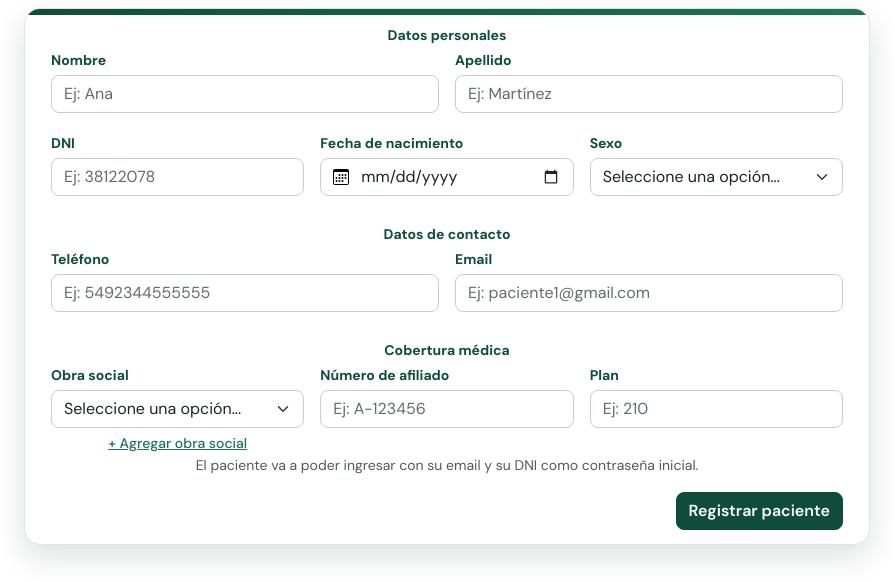
RegistroPacienteForm › 'Sin obra social' completa y bloquea número de afiliado y plan
Step 1. Select "Sin obra social" in the dropdown below "Número de afiliado" → (178, 409), box [51,390,304,428]
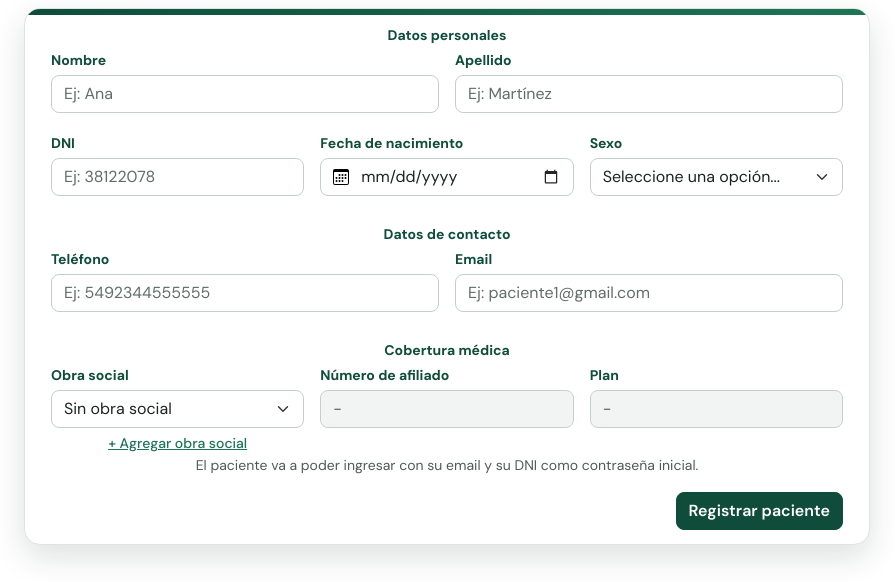
Expected: the field labelled "Número de afiliado" is disabled, [320,390,574,428]
Expected: the field labelled "Plan" is disabled, [590,390,843,428]
